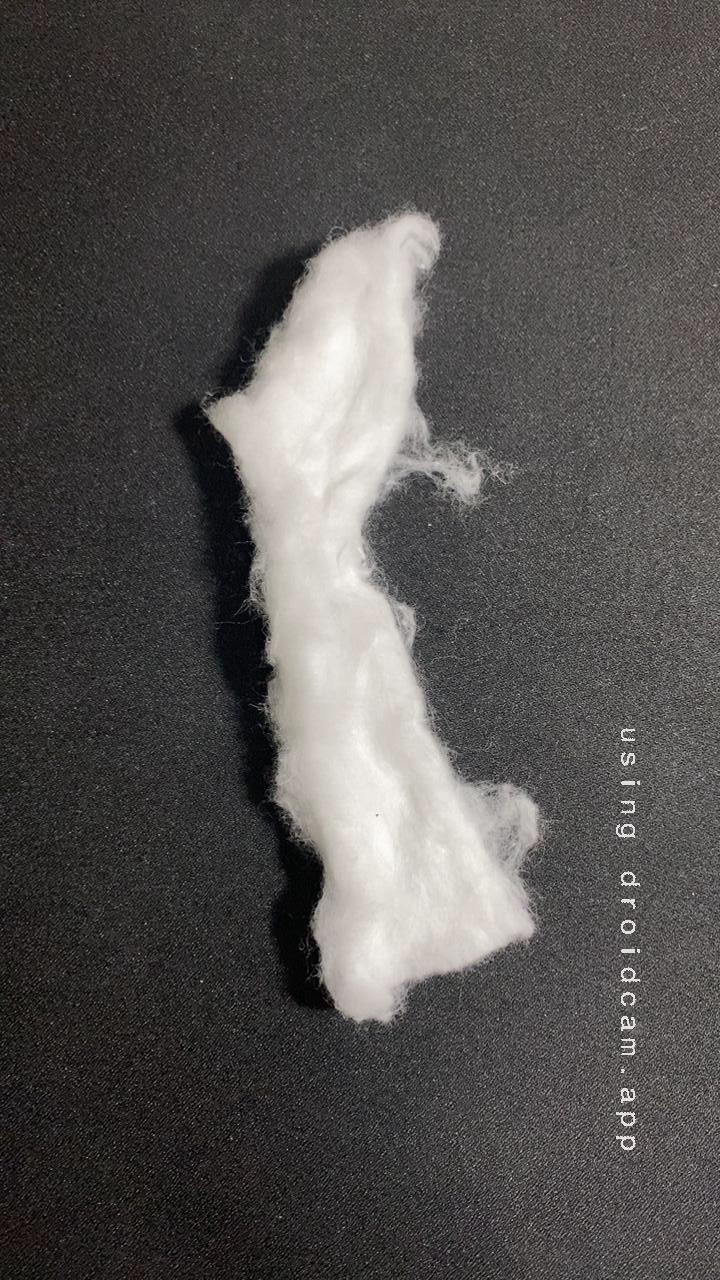cotton: (164, 181, 578, 965)
